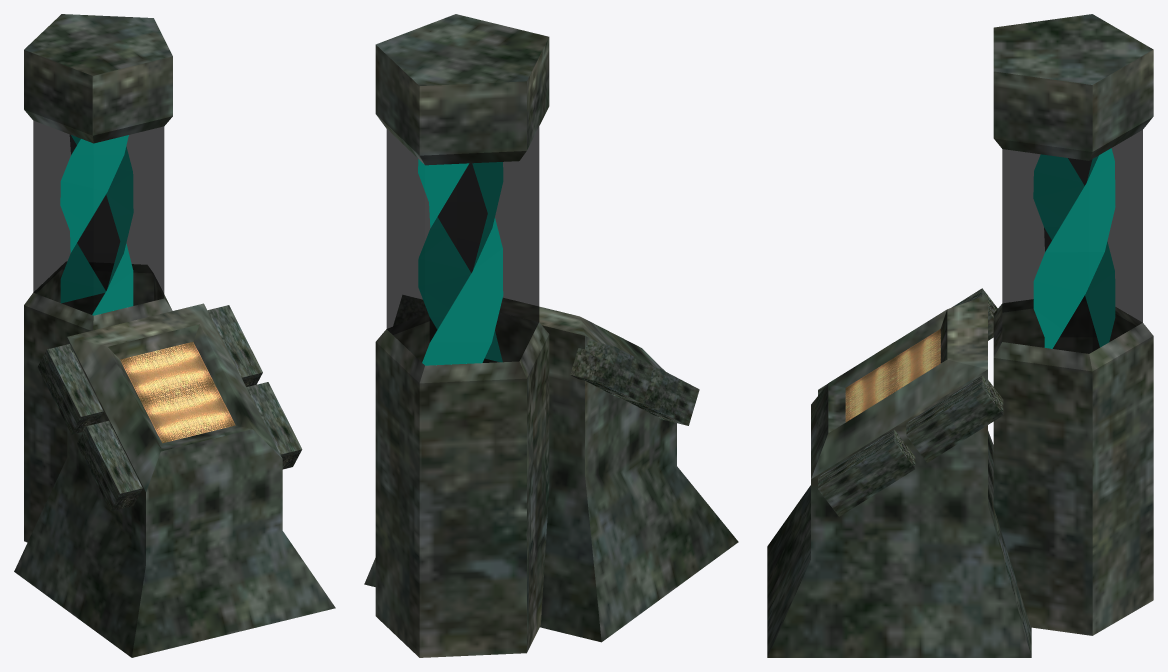
File: DNAConsole.glb
3 views of the same model, side by side, from view 1: azimuth 30°, elevation 25°; view 2: azimuth 150°, elevation 25°; view 3: azimuth 270°, elevation 25° (orthographic). The views are drawn at different scales.
Visible parts, largest first — view 1: Cube, Cylinder, DNA, Cube_001; view 2: Cylinder, Cube, DNA, Cube_001; view 3: Cylinder, Cube, DNA, Cube_001.
Boxes of the visible parts, <box> form: Cube: <box>14,303,335,657</box>; Cylinder: <box>24,14,172,542</box>; DNA: <box>60,135,133,315</box>; Cube_001: <box>37,305,302,511</box>; Cylinder: <box>375,14,549,657</box>; Cube: <box>364,298,738,642</box>; DNA: <box>418,159,503,365</box>; Cube_001: <box>393,295,699,425</box>; Cylinder: <box>993,14,1153,635</box>; Cube: <box>767,295,1031,657</box>; DNA: <box>1033,148,1115,353</box>; Cube_001: <box>818,288,1003,516</box>.
Bounding box in the file's own units: 2.99 × 6.9 × 4.37.
5 materials, 3 textured.
